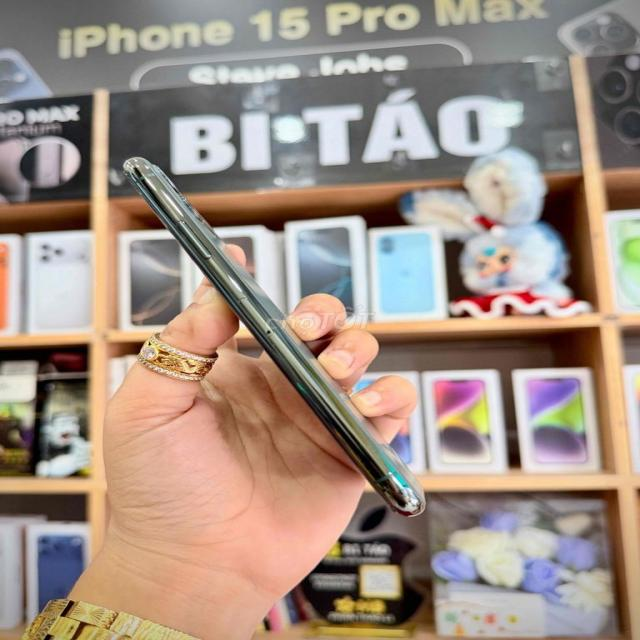gen_11: (123, 157, 425, 516)
